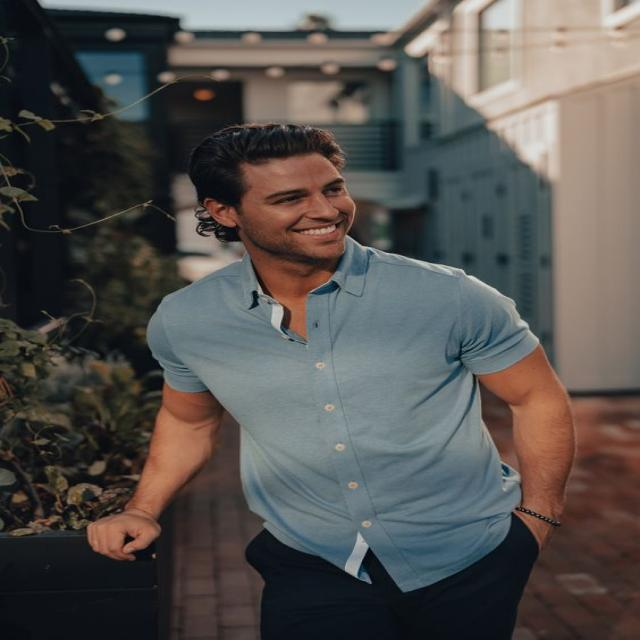shoulder: (138, 262, 542, 363)
